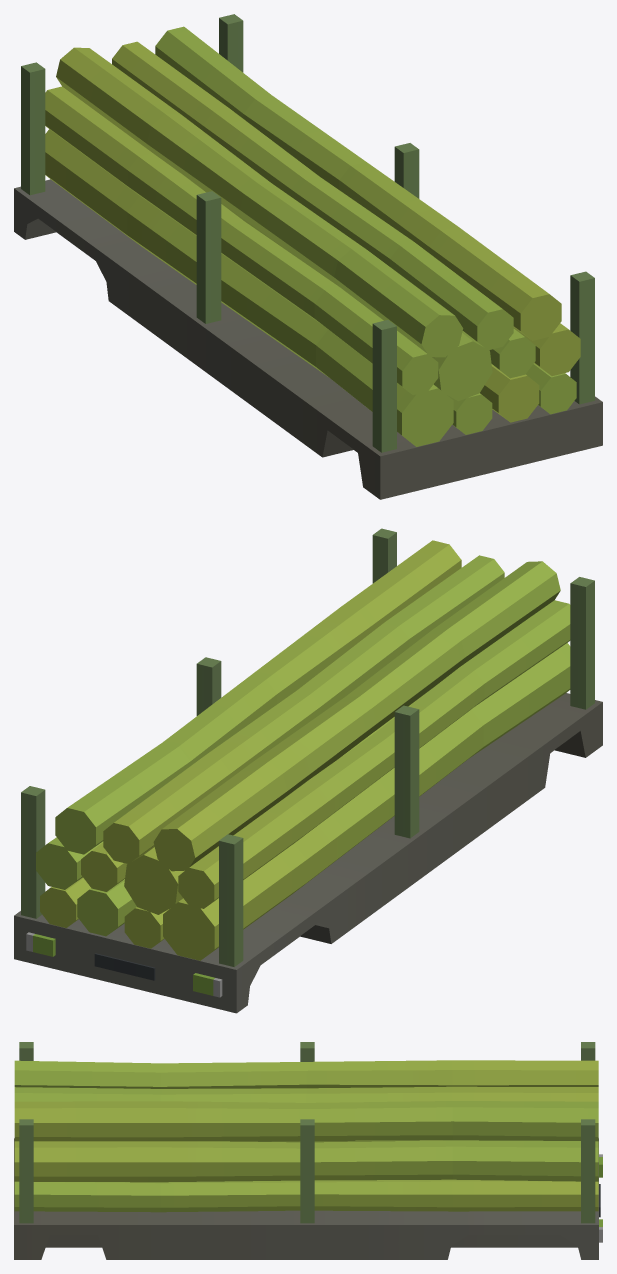
File: Car_31_2.fbx
3 views of the same model, one above another, from view 1: azimuth 30°, elevation 25°; view 2: azimuth 150°, elevation 25°; view 3: azimuth 270°, elevation 25° (orthographic). The views are drawn at different scales.
Parts seen in each view (by area): view 1: Car_31_2; view 2: Car_31_2; view 3: Car_31_2.
Boxes of the visible parts, x1,y1,x2,y2 form: Car_31_2: (14,14,602,499); Car_31_2: (14,528,602,1013); Car_31_2: (14,1042,602,1259).
Bounding box in the file's own units: 2.32 × 1.69 × 6.65.
